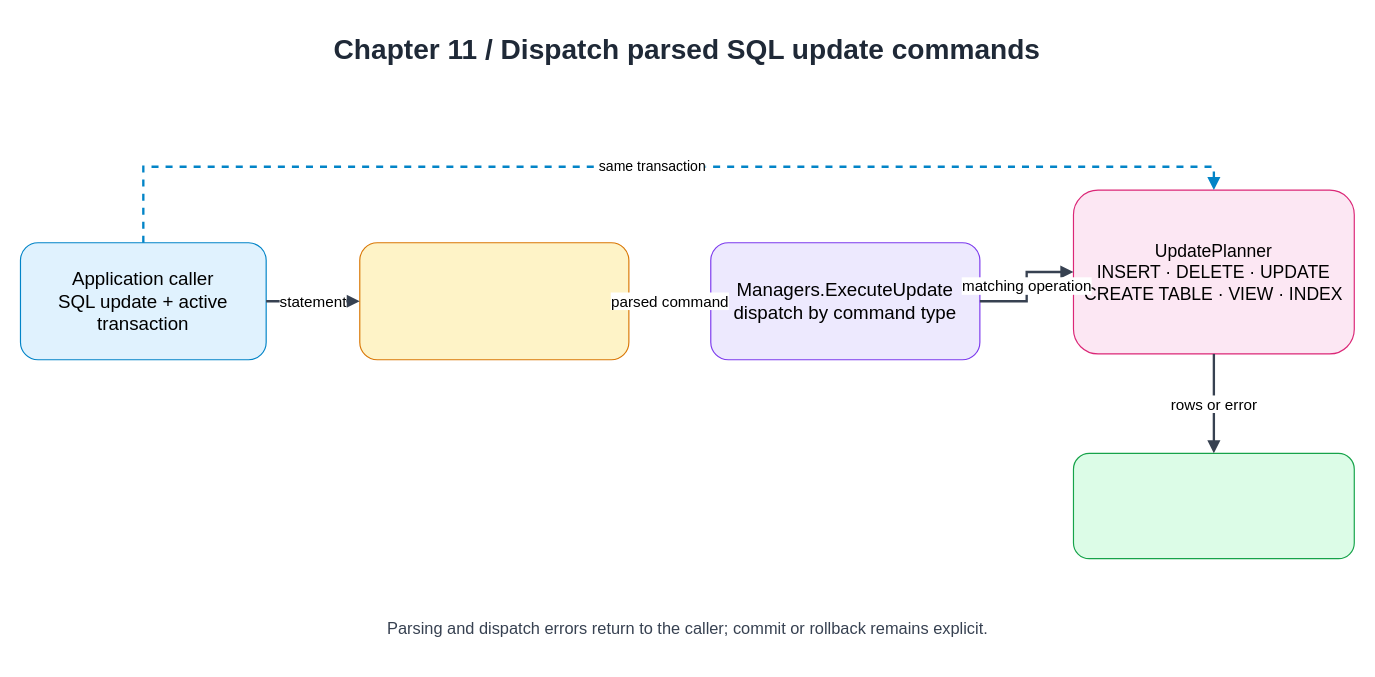
Some shapes in this 1375 by 677 pixel diagram are drawn without their labels. The box of each missing label's shape, as (x1, y1, x2, y2) in pixels:
Affected-row count or error transaction remains caller-owned: (1072, 452, 1354, 559)
Parser.ParseUpdateCommand SQL text → typed command data: (359, 242, 629, 360)
